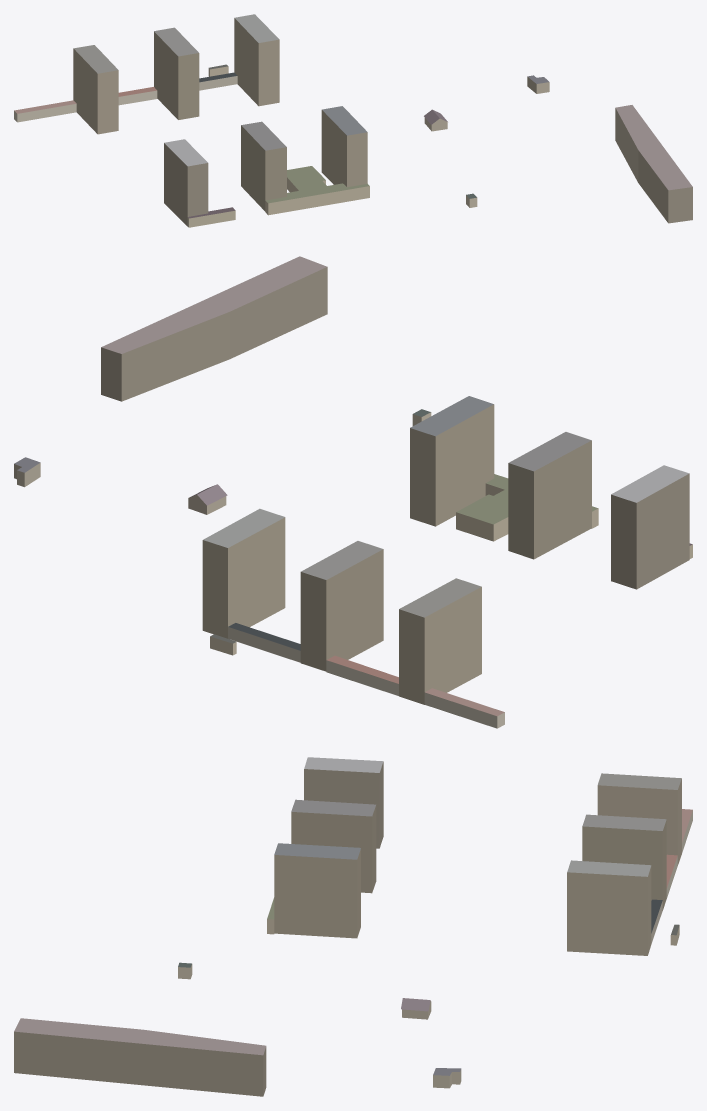
The picture shows the model from 3 angles, top to bottom: view 1: azimuth 30°, elevation 25°; view 2: azimuth 150°, elevation 25°; view 3: azimuth 270°, elevation 25°; orthographic projection. The views are drawn at different scales.
Parts seen in each view (by area): view 1: tuile; view 2: tuile; view 3: tuile.
Part boxes in pixels (x1=…): tuile: x1=14, y1=14, x2=692, y2=227; tuile: x1=14, y1=256, x2=692, y2=728; tuile: x1=14, y1=757, x2=692, y2=1096.
Size of the model in its own units: 252 by 35.68 by 263.
